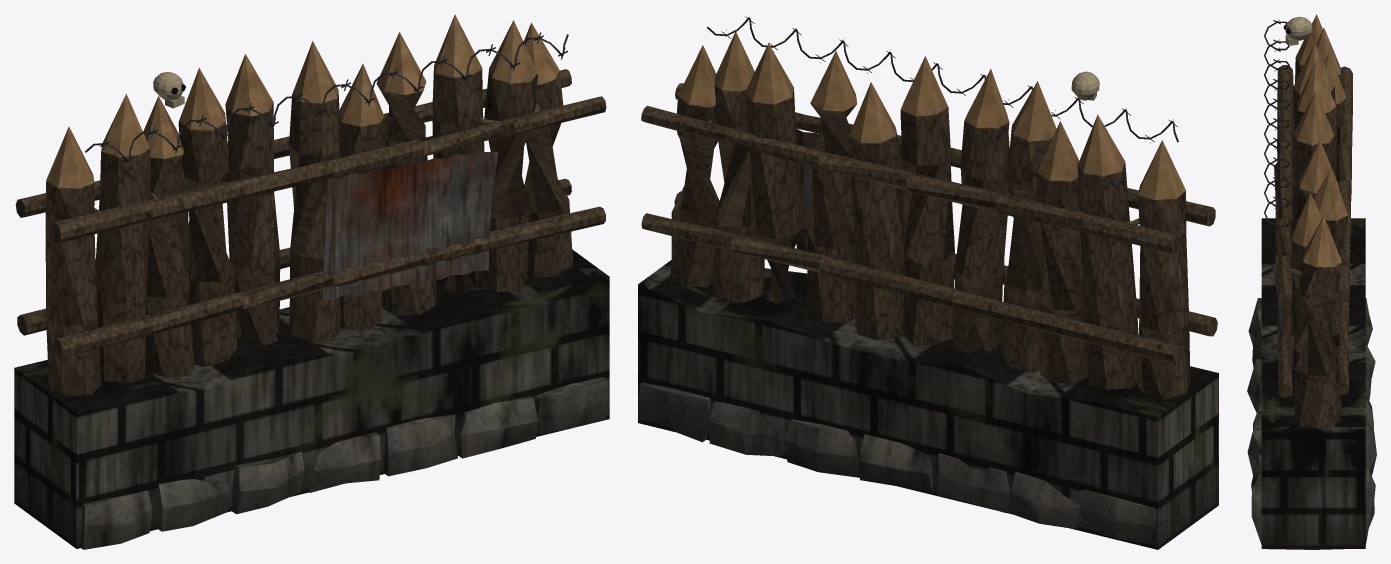
The model's file is ring_wall_b.glb.
3 views of the same model, side by side, from view 1: azimuth 30°, elevation 25°; view 2: azimuth 150°, elevation 25°; view 3: azimuth 270°, elevation 25° (orthographic). The views are drawn at different scales.
Parts seen in each view (by area): view 1: ring_wall_b; view 2: ring_wall_b; view 3: ring_wall_b.
Boxes of the visible parts, x1=… form: ring_wall_b: x1=14, y1=14, x2=609, y2=549; ring_wall_b: x1=638, y1=16, x2=1218, y2=549; ring_wall_b: x1=1247, y1=14, x2=1376, y2=549.
Size of the model in its own units: 4.3 by 3.27 by 1.06.
1 material, 1 textured.
